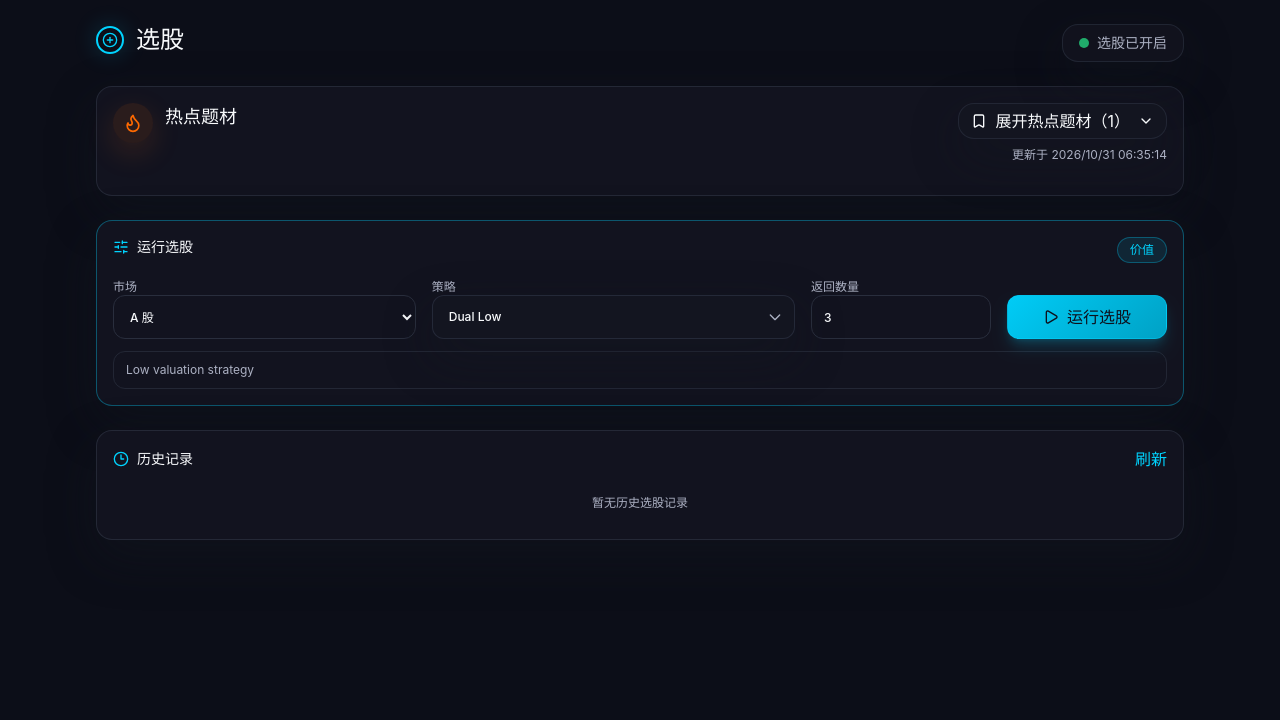
Test: StockScreeningPage › uses prefetched hotspot details from the hotspot list response
Click the button "展开热点题材（1）".
click(1063, 121)  # box [958,103,1167,139]
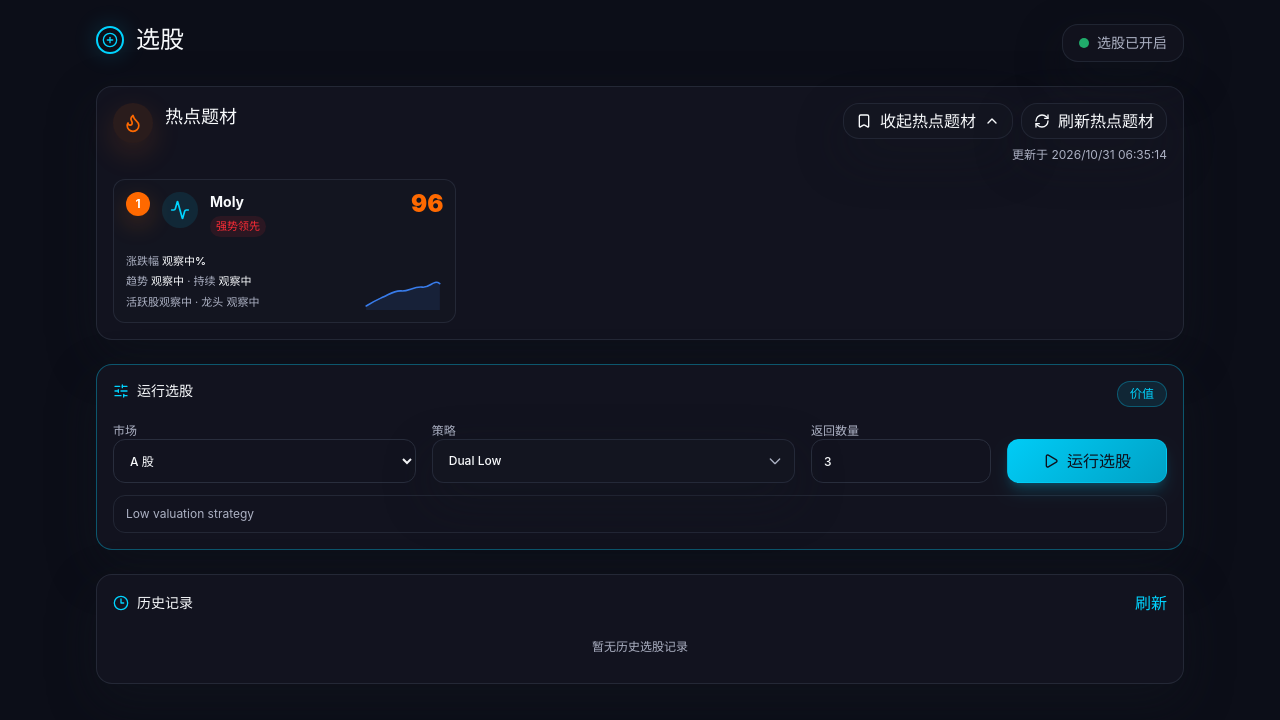
Click the button "1 Moly 强势领先 96 涨跌幅 观察中% 趋势 观察中 · 持续 观察中 活跃股观察中 · 龙头 观察中".
click(180, 210)  # box [113,179,456,323]
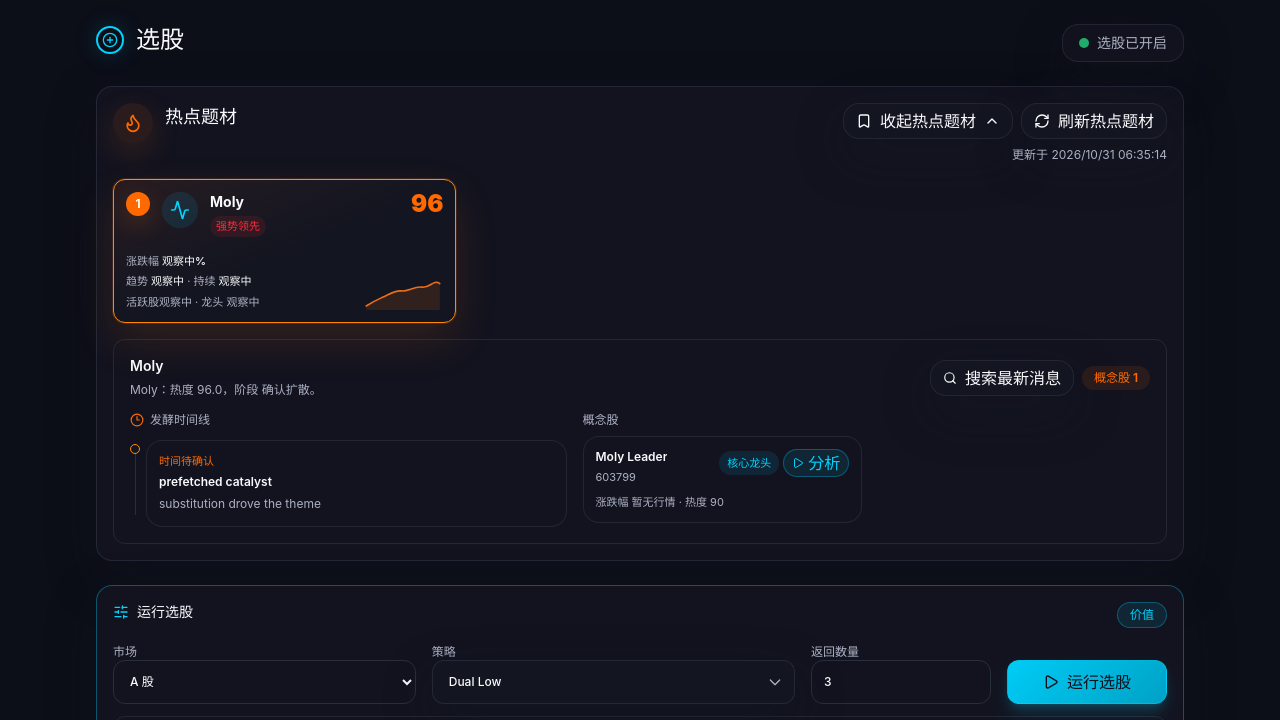
Result: the text "prefetched catalyst" is shown at [159,474,272,488]
Result: the text "substitution drove the theme" is shown at [159,496,321,510]
Result: the text "Moly Leader" is shown at [596,449,667,465]
